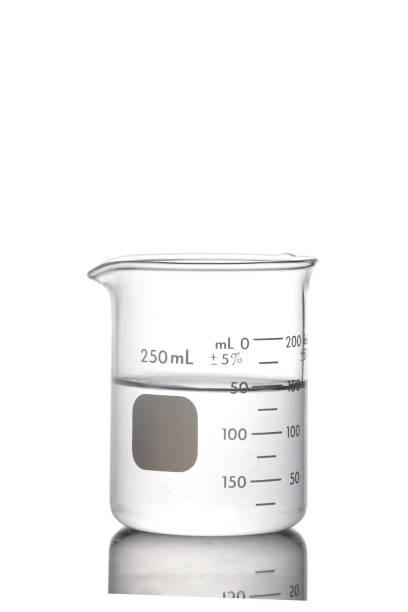Beaker: (80, 249, 317, 537)
